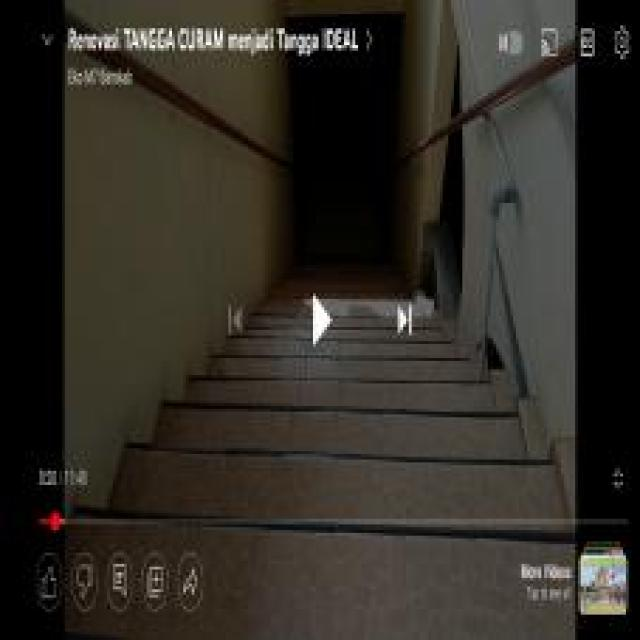downstair: (113, 333, 564, 524)
